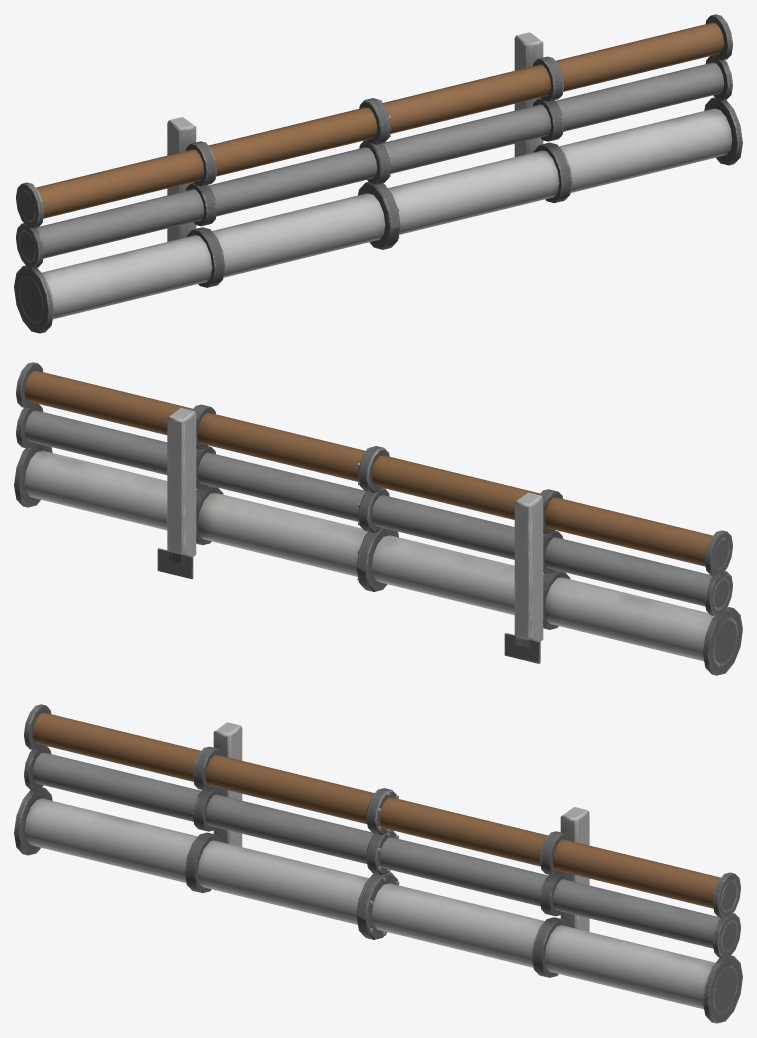
The model's file is pipes.glb.
The picture shows the model from 3 angles, top to bottom: view 1: azimuth 30°, elevation 25°; view 2: azimuth 150°, elevation 25°; view 3: azimuth 330°, elevation 25°; orthographic projection.
Parts seen in each view (by area): view 1: pipes; view 2: pipes; view 3: pipes.
Boxes of the visible parts, <box> form: pipes: <box>14,14,742,333</box>; pipes: <box>14,362,742,675</box>; pipes: <box>14,704,742,1023</box>.
Size of the model in its own units: 4 by 0.8599 by 0.4741.
Materials: 1 (1 with a texture image).
